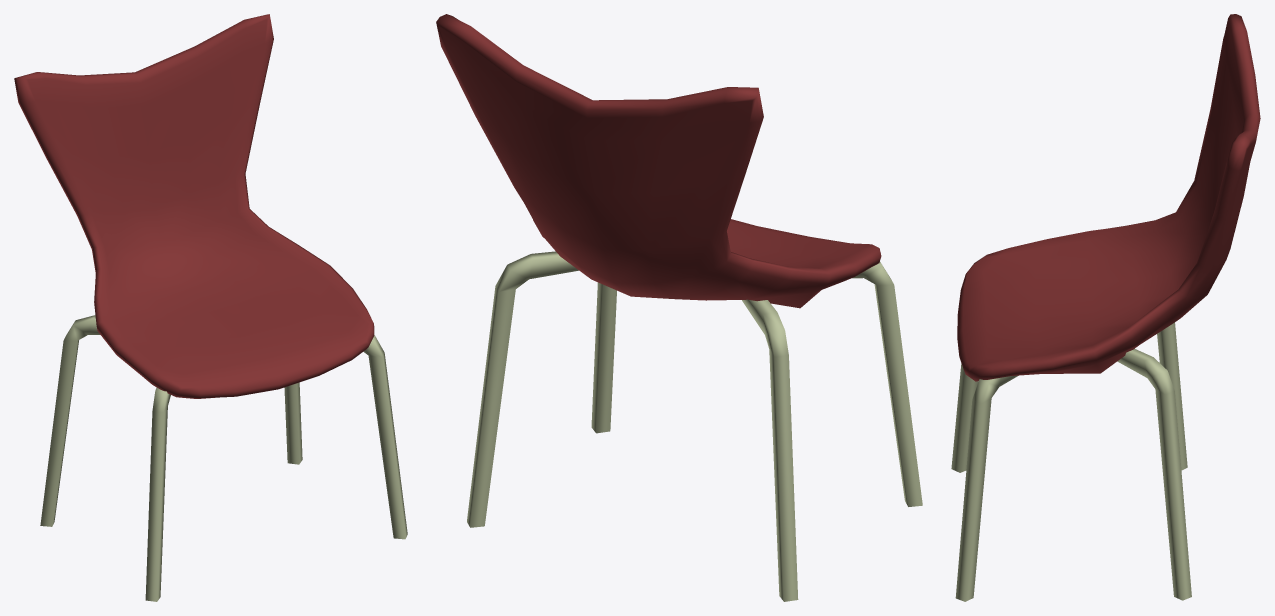
The model's file is Chair_12.fbx.
3 renders of one model, left to right at view 1: azimuth 30°, elevation 25°; view 2: azimuth 150°, elevation 25°; view 3: azimuth 270°, elevation 25°, orthographic. The views are drawn at different scales.
Parts seen in each view (by area): view 1: Chair_12; view 2: Chair_12; view 3: Chair_12.
Part boxes in pixels (bbox=[...]): Chair_12: bbox=[14, 14, 407, 601]; Chair_12: bbox=[436, 14, 922, 601]; Chair_12: bbox=[951, 14, 1260, 601].
Bounding box in the file's own units: 78.73 × 74.62 × 121.
